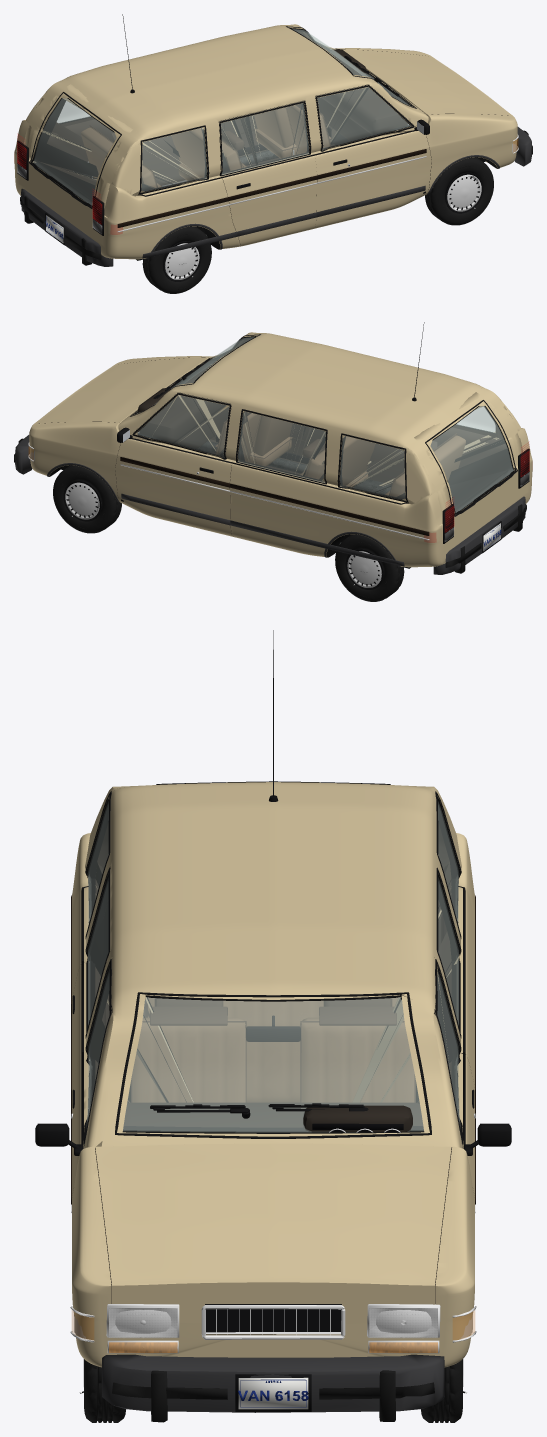
File: minivan86_lod1.glb
3 renders of one model, top to bottom at view 1: azimuth 30°, elevation 25°; view 2: azimuth 150°, elevation 25°; view 3: azimuth 270°, elevation 25°, orthographic. The views are drawn at different scales.
Visible parts, largest first — view 1: Body, Interior, Door_FR, Door_SR, Glass_Liftgate, Hood, Glass_SR, Glass, Glass_FR, Wheel_FR_mesh, Wheel_RR_mesh, Trim (+9 smaller); view 2: Body, Glass, Interior, Door_FL, Glass_Liftgate, Hood, Trim, Glass_FL, Wheel_FL_mesh, Wheel_RL_mesh, Trim_FL, Bumper_R (+6 smaller); view 3: Body, Hood, Glass, Interior, Bumper_F, Ends, Trim, Lamps_Head, Door_FL, Door_FR, Door_SR, Trim_FR (+9 smaller).
Part boxes in pixels (bbox=[...]): Body: bbox=[14, 24, 517, 259]; Interior: bbox=[81, 49, 407, 187]; Door_FR: bbox=[314, 84, 431, 228]; Door_SR: bbox=[219, 100, 317, 246]; Glass_Liftgate: bbox=[29, 92, 121, 208]; Hood: bbox=[343, 49, 512, 115]; Glass_SR: bbox=[218, 103, 311, 175]; Glass: bbox=[57, 26, 416, 191]; Glass_FR: bbox=[316, 85, 411, 151]; Wheel_FR_mesh: bbox=[425, 157, 493, 225]; Wheel_RR_mesh: bbox=[142, 226, 211, 293]; Trim: bbox=[117, 14, 499, 259]; Body: bbox=[29, 332, 532, 567]; Glass: bbox=[130, 334, 495, 499]; Interior: bbox=[138, 365, 465, 496]; Door_FL: bbox=[115, 392, 232, 536]; Glass_Liftgate: bbox=[425, 400, 517, 516]; Hood: bbox=[34, 357, 208, 423]; Trim: bbox=[47, 322, 429, 567]; Glass_FL: bbox=[137, 392, 231, 459]; Wheel_FL_mesh: bbox=[53, 465, 121, 533]; Wheel_RL_mesh: bbox=[335, 534, 404, 601]; Trim_FL: bbox=[117, 393, 232, 525]; Bumper_R: bbox=[433, 496, 526, 574]; Body: bbox=[72, 782, 474, 1367]; Hood: bbox=[95, 1143, 451, 1320]; Glass: bbox=[88, 802, 459, 1138]; Interior: bbox=[123, 997, 423, 1132]; Bumper_F: bbox=[102, 1354, 444, 1422]; Ends: bbox=[70, 1304, 476, 1411]; Trim: bbox=[71, 630, 475, 1118]; Lamps_Head: bbox=[109, 1309, 437, 1337]; Door_FL: bbox=[434, 958, 474, 1196]; Door_FR: bbox=[72, 958, 112, 1196]; Door_SR: bbox=[72, 866, 110, 1087]; Trim_FR: bbox=[35, 959, 111, 1212].
Size of the model in its own units: 4.5 by 2.41 by 2.09.
34 materials, 5 textured.
